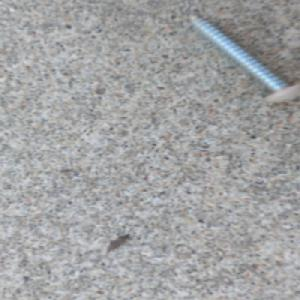Screw: (186, 12, 300, 104)
